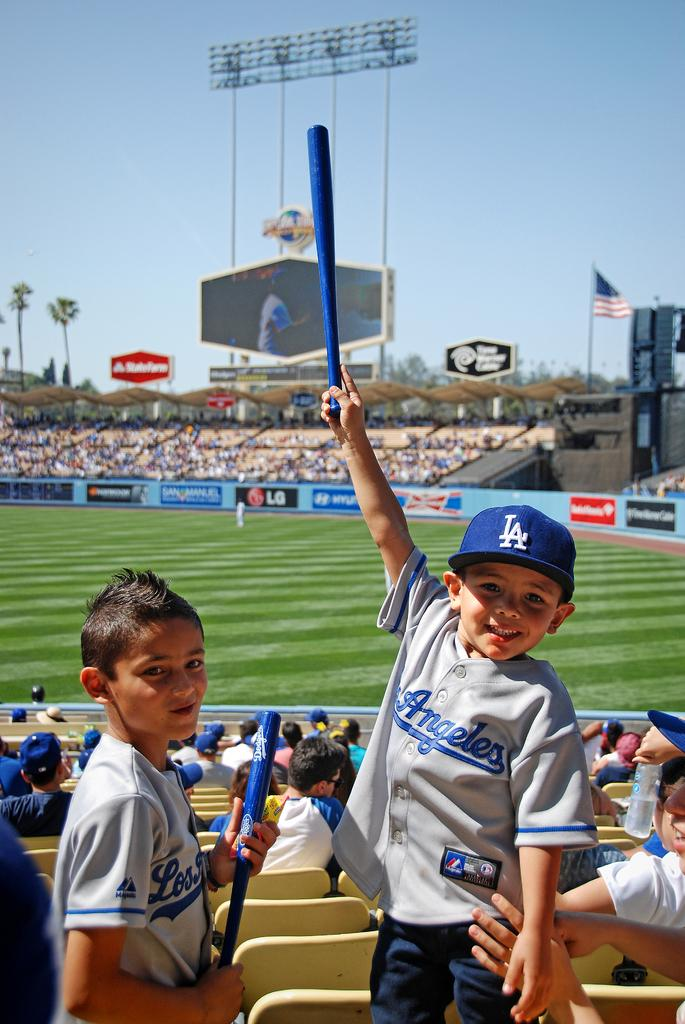Hat: (444, 502, 575, 604), (20, 728, 62, 788), (647, 707, 684, 751), (616, 730, 638, 762), (193, 734, 219, 756), (208, 720, 224, 742)
